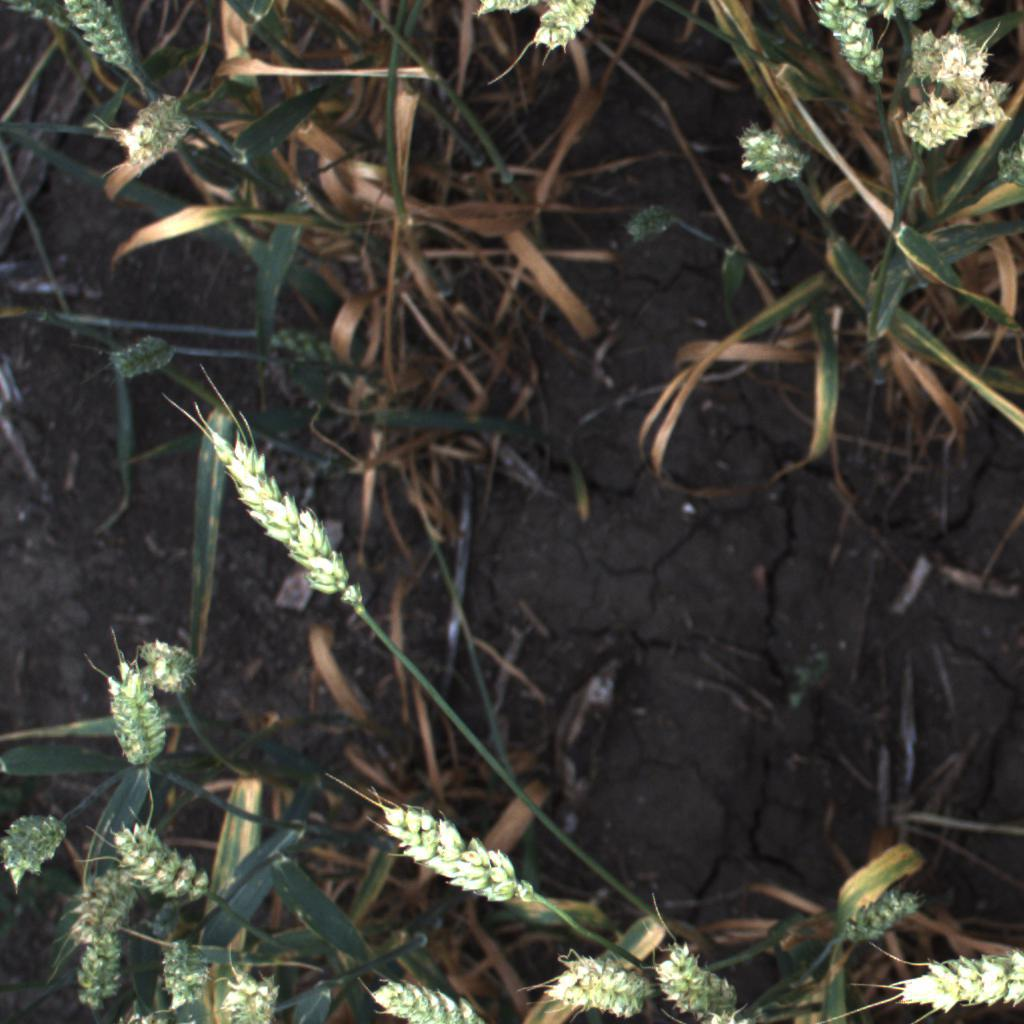0-0: (188, 404, 379, 615), (370, 789, 548, 913), (872, 942, 1024, 1022), (84, 646, 171, 777), (107, 811, 221, 906), (649, 935, 769, 1024), (539, 942, 667, 1021), (64, 844, 146, 949), (0, 794, 79, 901), (829, 879, 944, 951), (357, 972, 503, 1024), (813, 0, 892, 93), (729, 115, 815, 194), (60, 0, 145, 75), (71, 918, 137, 1013), (126, 624, 200, 700), (129, 111, 213, 175), (97, 332, 182, 390), (221, 947, 284, 1024), (159, 932, 216, 1016), (904, 102, 984, 161), (935, 75, 1014, 134), (931, 36, 996, 102), (118, 88, 195, 143), (528, 0, 601, 58), (902, 23, 964, 87), (607, 195, 682, 243), (985, 127, 1024, 194), (467, 0, 550, 29)
